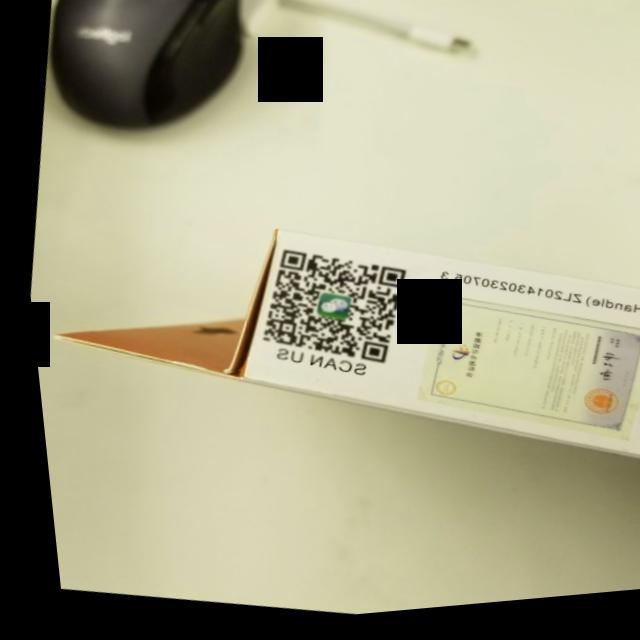QR_CODE: (227, 231, 421, 388)
